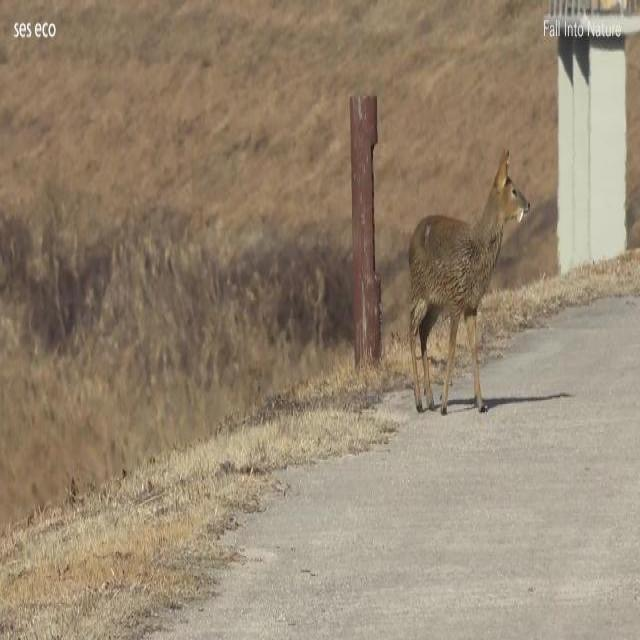deer: (408, 151, 532, 412)
